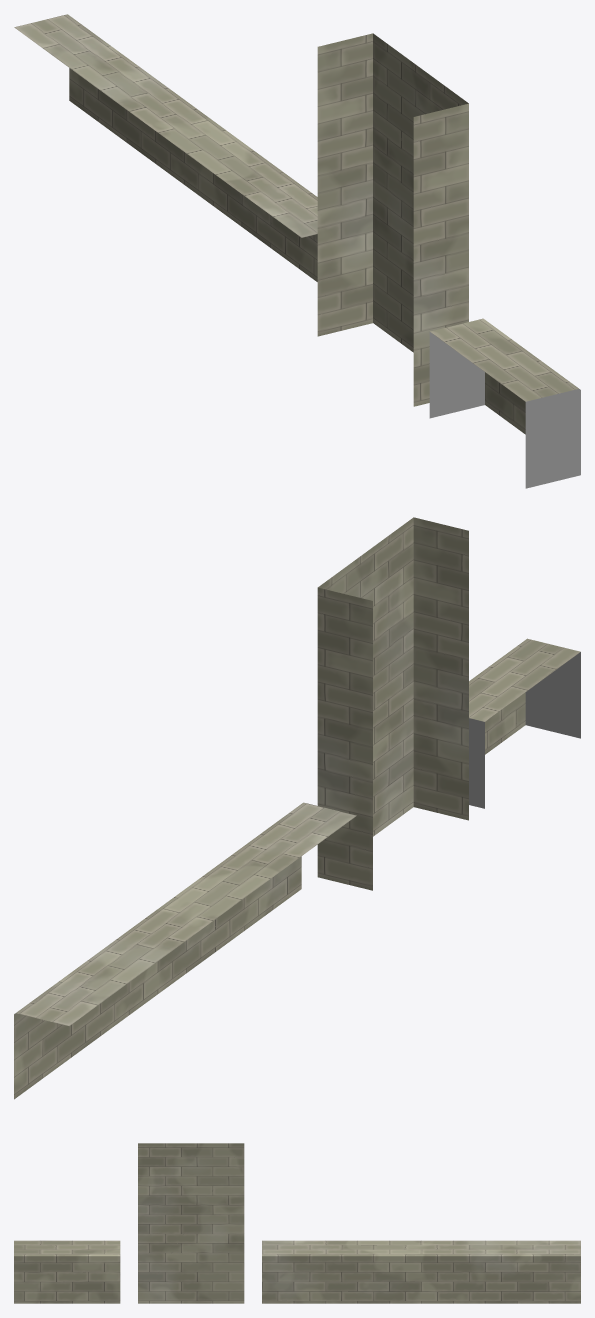
File: Tiles_01.fbx
3 views of the same model, one above another, from view 1: azimuth 30°, elevation 25°; view 2: azimuth 150°, elevation 25°; view 3: azimuth 270°, elevation 25° (orthographic). The views are drawn at different scales.
Visible parts, largest first — view 1: floor_large, flor_tall_R, floor_tall_L, floor_tall, floor_small, floor_small_L, floor_small_R; view 2: floor_large, floor_tall_L, flor_tall_R, floor_tall, floor_small, floor_small_L, floor_small_R; view 3: floor_large, floor_tall, floor_small.
Part boxes in pixels (box(x1,y1,x2,y2)): floor_large: box(14, 14, 317, 281); flor_tall_R: box(317, 33, 372, 336); floor_tall_L: box(413, 103, 468, 406); floor_tall: box(373, 33, 468, 352); floor_small: box(430, 318, 578, 434); floor_small_L: box(525, 389, 580, 488); floor_small_R: box(429, 332, 484, 418); floor_large: box(14, 802, 356, 1099); floor_tall_L: box(413, 517, 468, 820); flor_tall_R: box(317, 587, 372, 890); floor_tall: box(318, 517, 413, 836); floor_small: box(469, 638, 580, 754); floor_small_L: box(525, 652, 580, 738); floor_small_R: box(469, 718, 484, 808); floor_large: box(262, 1240, 580, 1303); floor_tall: box(138, 1143, 244, 1303); floor_small: box(14, 1240, 120, 1303).
Size of the model in its own units: 10 by 50 by 160.
Materials: 3 (1 with a texture image).
